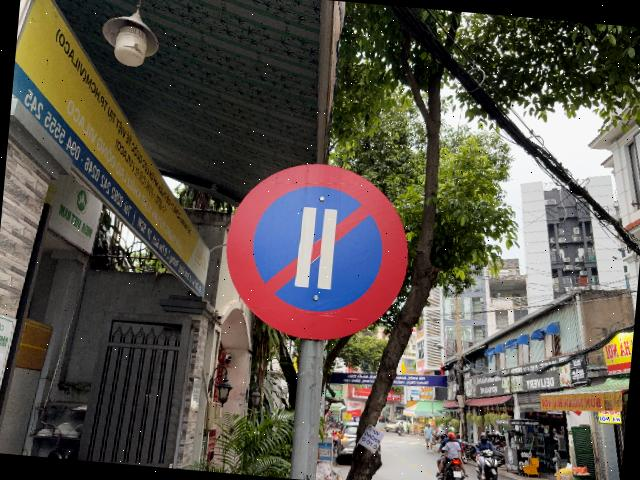cam-do-xe-ngay-chan: (218, 153, 416, 349)
